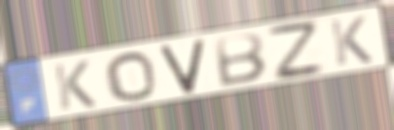B: (212, 31, 269, 89)
K: (50, 58, 99, 112), (327, 14, 375, 68)
O: (102, 50, 160, 102)
V: (157, 36, 207, 96)
Z: (264, 20, 329, 83)
